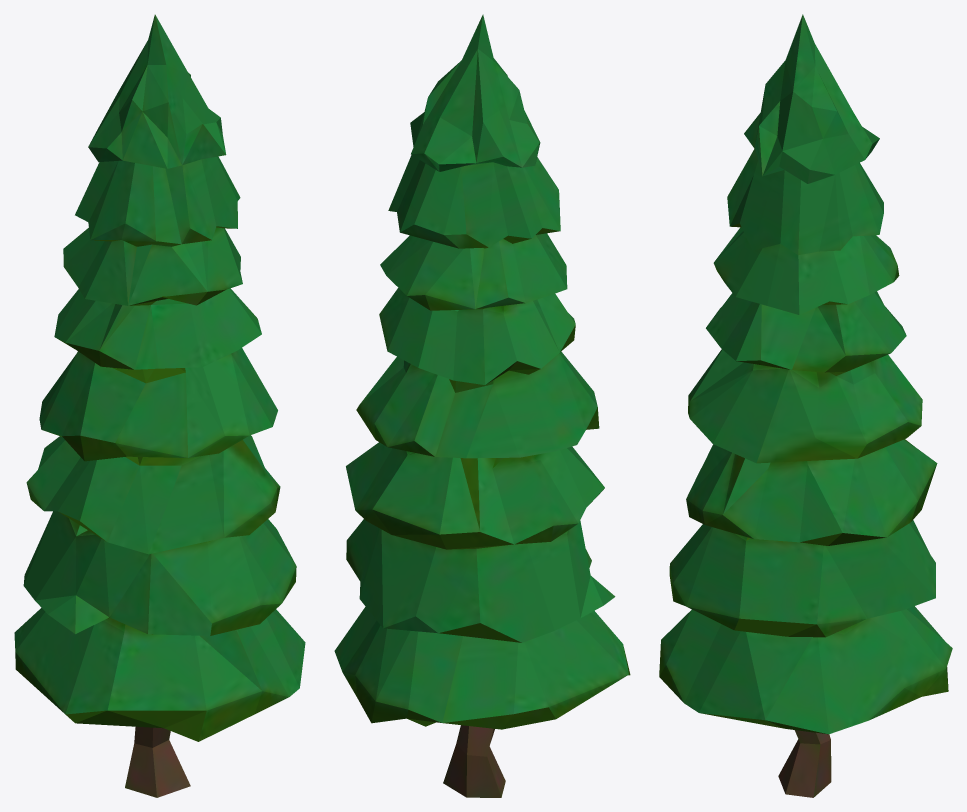
File: tree2.glb
3 renders of one model, left to right at view 1: azimuth 30°, elevation 25°; view 2: azimuth 150°, elevation 25°; view 3: azimuth 270°, elevation 25°, orthographic.
Parts seen in each view (by area): view 1: car; view 2: car; view 3: car.
Boxes of the visible parts, x1=… form: car: x1=14, y1=14, x2=305, y2=797; car: x1=334, y1=14, x2=630, y2=797; car: x1=659, y1=14, x2=952, y2=797.
Bounding box in the file's own units: 0.8524 × 2.49 × 0.8631.
1 material, 1 textured.
